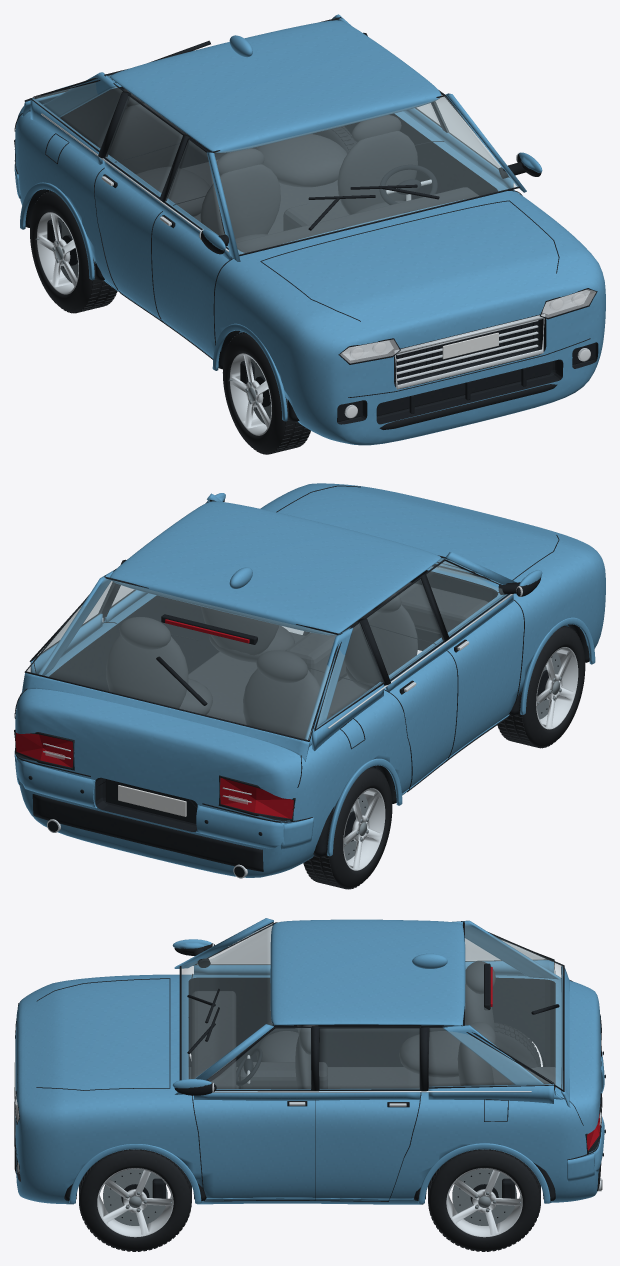
File: campus-hatchback-near.glb
The picture shows the model from 3 angles, top to bottom: view 1: azimuth 30°, elevation 25°; view 2: azimuth 150°, elevation 25°; view 3: azimuth 270°, elevation 25°; orthographic projection. The views are drawn at different scales.
Visible parts, largest first — view 1: Body:paint, Body:glass, Body:interior, Body:black, Body:chrome, Wheel0:rubber, Wheel2:rubber, Wheel0:chrome, Wheel2:chrome, Body:frontlamp, Body:white; view 2: Body:paint, Body:glass, Body:interior, Body:black, Wheel2:rubber, Wheel0:rubber, Body:redlens, Wheel2:chrome, Wheel0:chrome, Body:white, Body:chrome; view 3: Body:paint, Body:glass, Body:black, Body:interior, Wheel1:rubber, Wheel3:rubber, Wheel3:chrome, Wheel1:chrome, Wheel1:steel, Wheel3:steel, Wheel2:rubber, Body:chrome.
Part boxes in pixels (<box>): Body:paint: <box>14,14,605,445</box>; Body:glass: <box>32,75,518,254</box>; Body:interior: <box>109,88,478,252</box>; Body:black: <box>14,17,598,429</box>; Body:chrome: <box>41,113,590,417</box>; Wheel0:rubber: <box>222,332,310,454</box>; Wheel2:rubber: <box>30,191,117,313</box>; Wheel0:chrome: <box>229,353,271,435</box>; Wheel2:chrome: <box>37,212,78,294</box>; Body:frontlamp: <box>340,289,595,363</box>; Body:white: <box>442,332,498,359</box>; Body:paint: <box>14,483,605,877</box>; Body:glass: <box>27,558,506,739</box>; Body:interior: <box>106,582,488,738</box>; Body:black: <box>14,485,589,877</box>; Wheel2:rubber: <box>303,767,392,889</box>; Wheel0:rubber: <box>497,625,585,748</box>; Body:redlens: <box>15,733,293,818</box>; Wheel2:chrome: <box>343,788,385,870</box>; Wheel0:chrome: <box>536,647,578,729</box>; Body:white: <box>118,785,186,816</box>; Body:chrome: <box>43,586,522,878</box>; Body:paint: <box>15,918,604,1204</box>; Body:glass: <box>181,923,562,1089</box>; Body:black: <box>14,921,605,1204</box>; Body:interior: <box>188,961,555,1090</box>; Wheel1:rubber: <box>79,1149,191,1251</box>; Wheel3:rubber: <box>428,1149,540,1251</box>; Wheel3:chrome: <box>446,1168,522,1237</box>; Wheel1:chrome: <box>97,1168,173,1237</box>; Wheel1:steel: <box>103,1169,171,1225</box>; Wheel3:steel: <box>452,1169,521,1225</box>; Wheel2:rubber: <box>494,1022,540,1068</box>; Body:chrome: <box>15,943,601,1191</box>.
Bounding box in the file's own units: 2.04 × 1.54 × 3.56.
12 materials, 12 textured.
